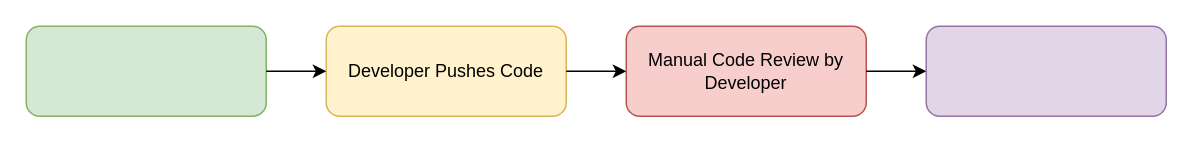
Some shapes in this 1193 by 143 pixel diagram are drawn without their labels. Here are the shapes that lost their labels. From the top down, the box of each, then its label:
(25, 25, 266, 116): JIRA Story with Acceptance Criteria
(925, 25, 1166, 116): Code Review Comment on GitHub
